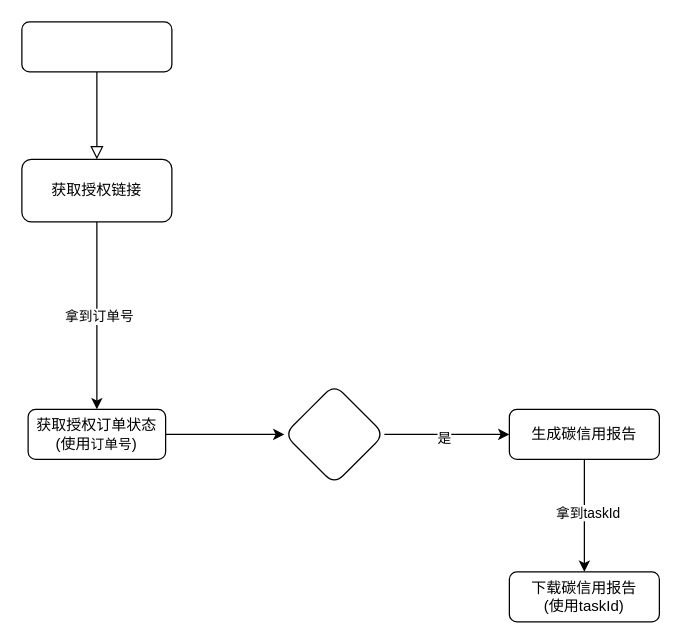
Some shapes in this 681 by 644 pixel diagram are drawn without their labels. Each missing label, with the box of its shape:
是否授权成功: (283, 383, 384, 484)
生成二维码: (21, 21, 172, 72)
